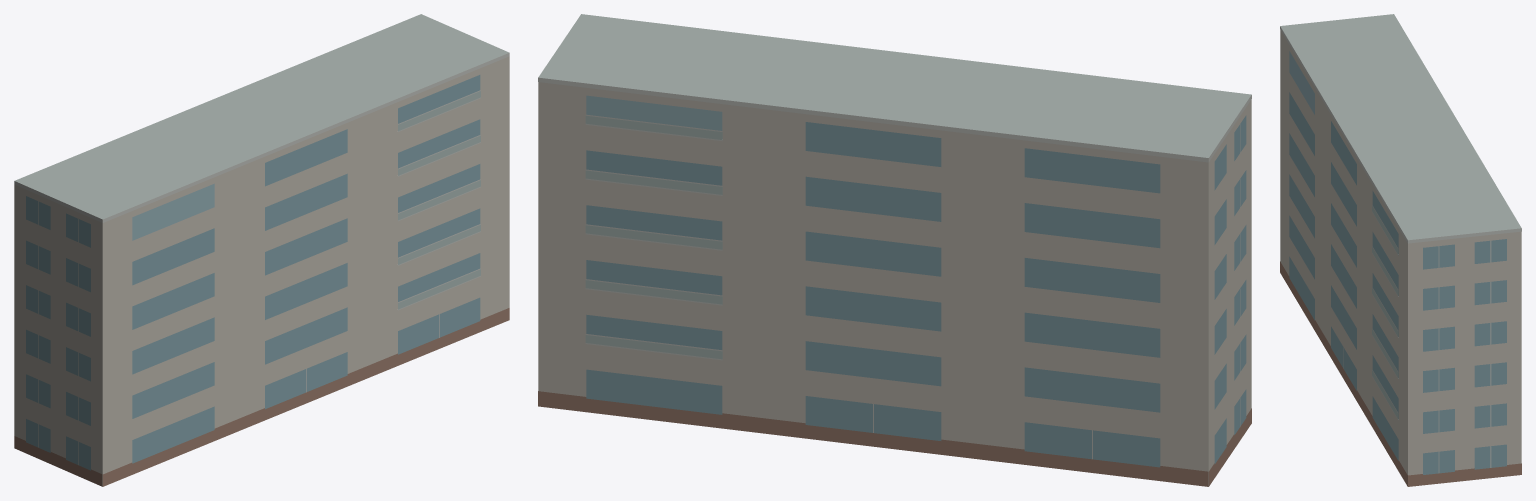
File: survey-upis-32639739.glb
3 views of the same model, side by side, from view 1: azimuth 30°, elevation 25°; view 2: azimuth 150°, elevation 25°; view 3: azimuth 270°, elevation 25° (orthographic). The views are drawn at different scales.
Visible parts, largest first — view 1: survey-upis-32639739.tmp; view 2: survey-upis-32639739.tmp; view 3: survey-upis-32639739.tmp.
Boxes of the visible parts, x1,y1,x2,y2 form: survey-upis-32639739.tmp: (14, 14, 509, 486); survey-upis-32639739.tmp: (538, 14, 1251, 486); survey-upis-32639739.tmp: (1280, 14, 1521, 486).
Bounding box in the file's own units: 36.02 × 18.3 × 16.26.
